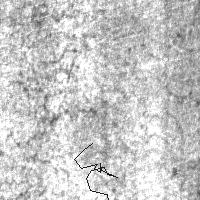crazing: (4, 1, 105, 149), (1, 151, 72, 199), (74, 143, 129, 200)
